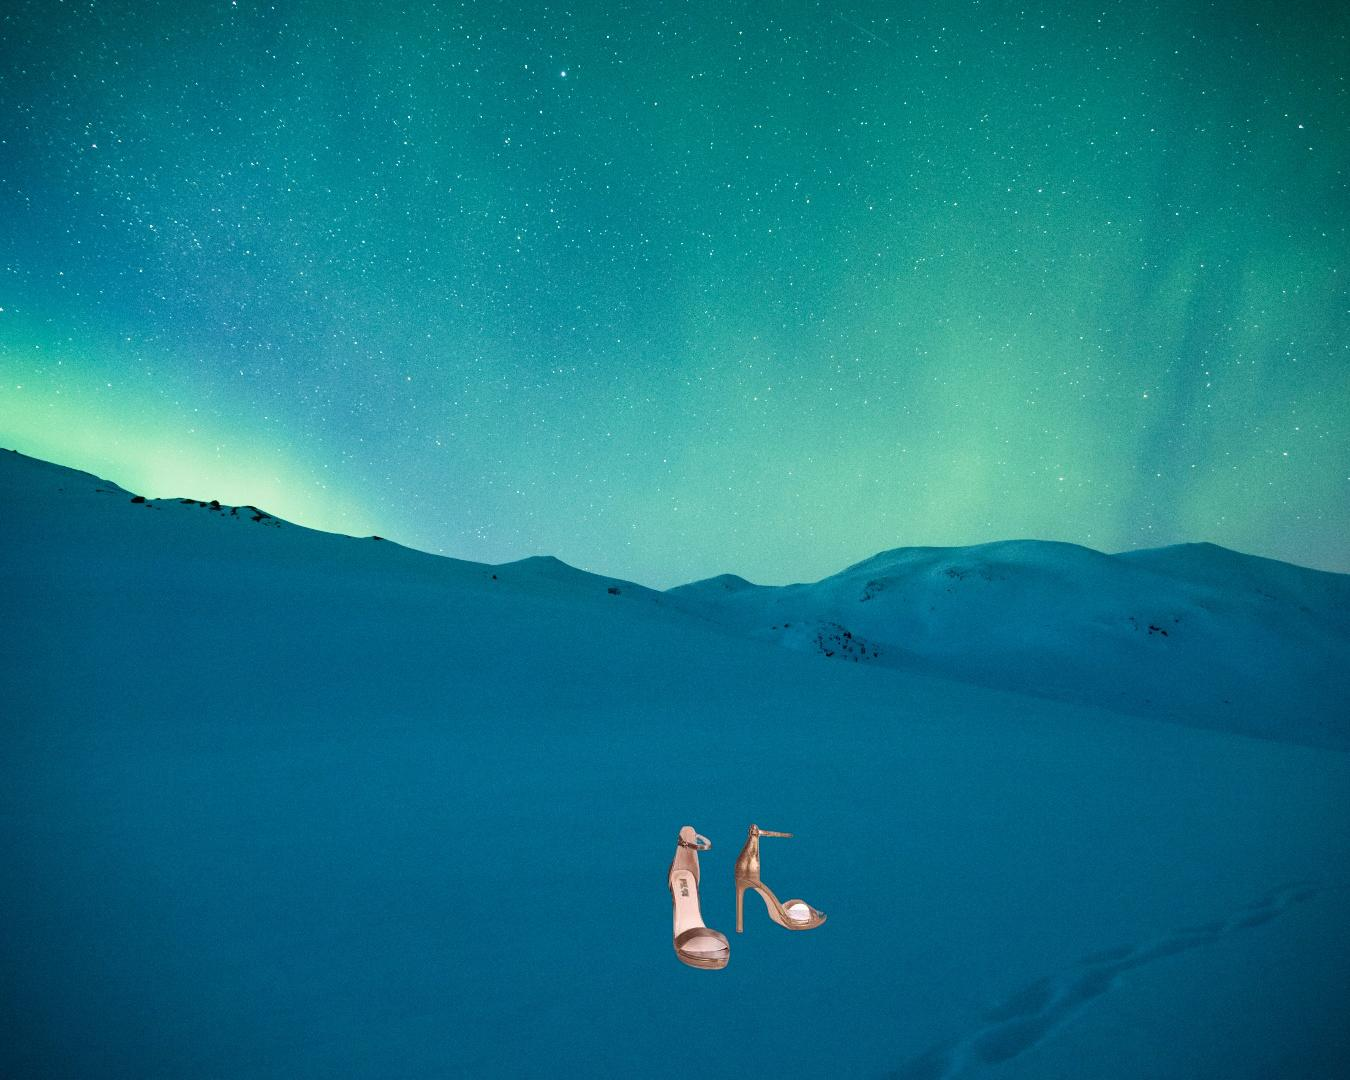shoes: (665, 821, 830, 972)
